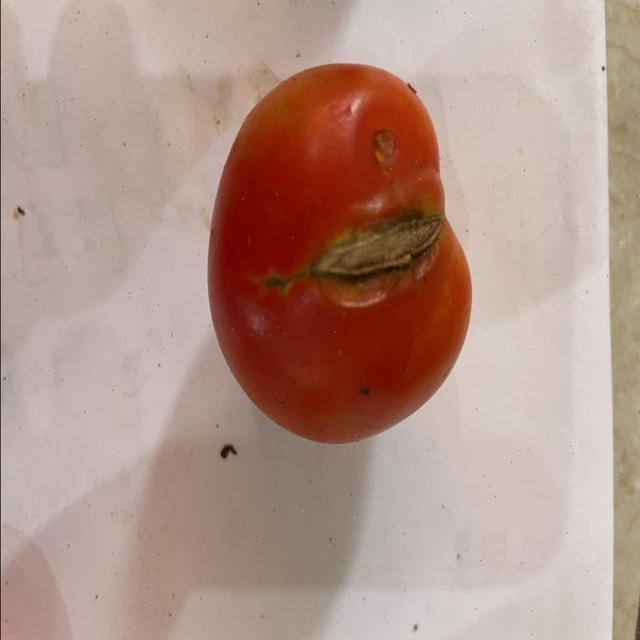Cracking Fruit: (194, 131, 295, 211)
